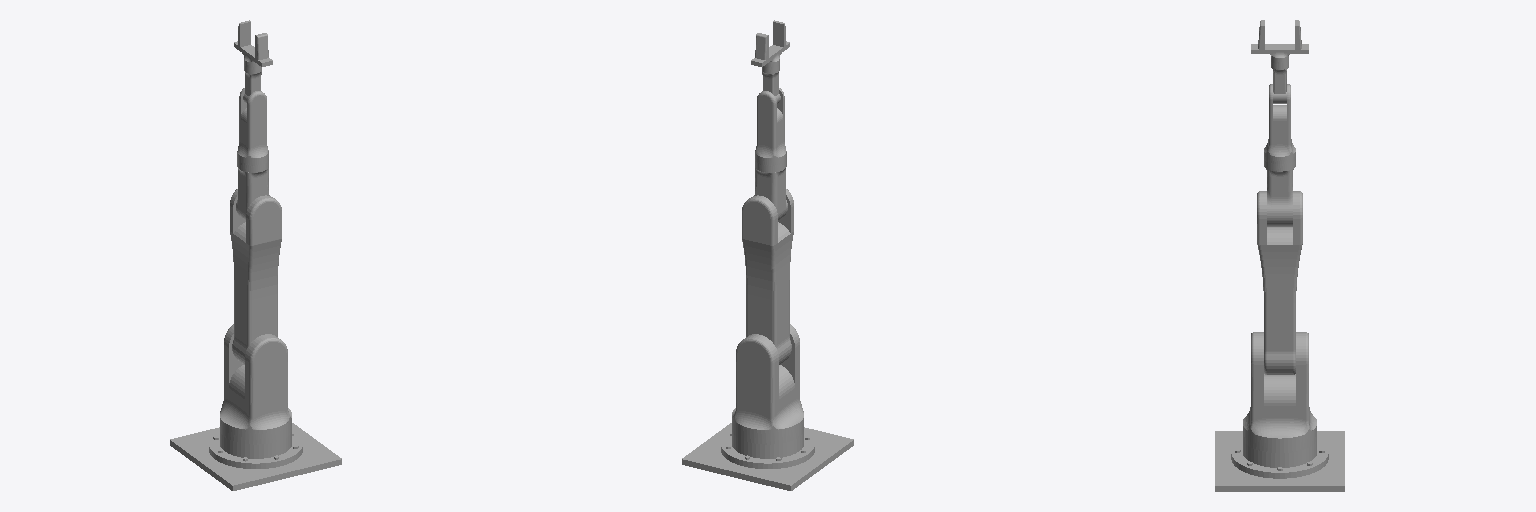
URDF robot description (robot_arm):
<?xml version="1.0" ?>
<robot name="robot_arm">
  <material name="silver">
    <color rgba="0.700 0.700 0.700 1.000"/>
  </material>
  <transmission name="Revolute1_tran">
    <type>transmission_interface/SimpleTransmission</type>
    <joint name="Revolute1">
      <hardwareInterface>hardware_interface/PositionJointInterface</hardwareInterface>
    </joint>
    <actuator name="Revolute1_actr">
      <hardwareInterface>hardware_interface/PositionJointInterface</hardwareInterface>
      <mechanicalReduction>1</mechanicalReduction>
    </actuator>
  </transmission>
  <transmission name="Revolute2_tran">
    <type>transmission_interface/SimpleTransmission</type>
    <joint name="Revolute2">
      <hardwareInterface>hardware_interface/PositionJointInterface</hardwareInterface>
    </joint>
    <actuator name="Revolute2_actr">
      <hardwareInterface>hardware_interface/PositionJointInterface</hardwareInterface>
      <mechanicalReduction>1</mechanicalReduction>
    </actuator>
  </transmission>
  <transmission name="Revolute3_tran">
    <type>transmission_interface/SimpleTransmission</type>
    <joint name="Revolute3">
      <hardwareInterface>hardware_interface/PositionJointInterface</hardwareInterface>
    </joint>
    <actuator name="Revolute3_actr">
      <hardwareInterface>hardware_interface/PositionJointInterface</hardwareInterface>
      <mechanicalReduction>1</mechanicalReduction>
    </actuator>
  </transmission>
  <transmission name="Revolute4_tran">
    <type>transmission_interface/SimpleTransmission</type>
    <joint name="Revolute4">
      <hardwareInterface>hardware_interface/PositionJointInterface</hardwareInterface>
    </joint>
    <actuator name="Revolute4_actr">
      <hardwareInterface>hardware_interface/PositionJointInterface</hardwareInterface>
      <mechanicalReduction>1</mechanicalReduction>
    </actuator>
  </transmission>
  <transmission name="Revolute5_tran">
    <type>transmission_interface/SimpleTransmission</type>
    <joint name="Revolute5">
      <hardwareInterface>hardware_interface/PositionJointInterface</hardwareInterface>
    </joint>
    <actuator name="Revolute5_actr">
      <hardwareInterface>hardware_interface/PositionJointInterface</hardwareInterface>
      <mechanicalReduction>1</mechanicalReduction>
    </actuator>
  </transmission>
  <transmission name="Revolute6_tran">
    <type>transmission_interface/SimpleTransmission</type>
    <joint name="Revolute6">
      <hardwareInterface>hardware_interface/PositionJointInterface</hardwareInterface>
    </joint>
    <actuator name="Revolute6_actr">
      <hardwareInterface>hardware_interface/PositionJointInterface</hardwareInterface>
      <mechanicalReduction>1</mechanicalReduction>
    </actuator>
  </transmission>
  <transmission name="Slider9_tran">
    <type>transmission_interface/SimpleTransmission</type>
    <joint name="Slider9">
      <hardwareInterface>hardware_interface/PositionJointInterface</hardwareInterface>
    </joint>
    <actuator name="Slider9_actr">
      <hardwareInterface>hardware_interface/PositionJointInterface</hardwareInterface>
      <mechanicalReduction>1</mechanicalReduction>
    </actuator>
  </transmission>
  <gazebo>
    <plugin filename="libgazebo_ros_control.so" name="control">
      <robotNamespace>/</robotNamespace>
    </plugin>
  </gazebo>
  <gazebo reference="base_link">
    <material>Gazebo/Grey</material>
    <mu1>0.2</mu1>
    <mu2>0.2</mu2>
    <selfCollide>true</selfCollide>
    <gravity>true</gravity>
  </gazebo>
  <gazebo reference="waist_1">
    <material>Gazebo/Grey</material>
    <mu1>0.2</mu1>
    <mu2>0.2</mu2>
    <selfCollide>true</selfCollide>
  </gazebo>
  <gazebo reference="upperarm_1">
    <material>Gazebo/Grey</material>
    <mu1>0.2</mu1>
    <mu2>0.2</mu2>
    <selfCollide>true</selfCollide>
  </gazebo>
  <gazebo reference="forearm1_1">
    <material>Gazebo/Grey</material>
    <mu1>0.2</mu1>
    <mu2>0.2</mu2>
    <selfCollide>true</selfCollide>
  </gazebo>
  <gazebo reference="forearm2_1">
    <material>Gazebo/Grey</material>
    <mu1>0.2</mu1>
    <mu2>0.2</mu2>
    <selfCollide>true</selfCollide>
  </gazebo>
  <gazebo reference="wrist1_1">
    <material>Gazebo/Grey</material>
    <mu1>0.2</mu1>
    <mu2>0.2</mu2>
    <selfCollide>true</selfCollide>
  </gazebo>
  <gazebo reference="wrist2_1">
    <material>Gazebo/Grey</material>
    <mu1>0.2</mu1>
    <mu2>0.2</mu2>
    <selfCollide>true</selfCollide>
  </gazebo>
  <gazebo reference="grip_pad2_1">
    <material>Gazebo/Grey</material>
    <mu1>0.2</mu1>
    <mu2>0.2</mu2>
    <selfCollide>true</selfCollide>
  </gazebo>
  <gazebo reference="grip_pad1_1">
    <material>Gazebo/Grey</material>
    <mu1>0.2</mu1>
    <mu2>0.2</mu2>
    <selfCollide>true</selfCollide>
  </gazebo>
  <gazebo reference="finger2_1">
    <material>Gazebo/Grey</material>
    <mu1>0.2</mu1>
    <mu2>0.2</mu2>
    <selfCollide>true</selfCollide>
  </gazebo>
  <gazebo reference="finger1_1">
    <material>Gazebo/Grey</material>
    <mu1>0.2</mu1>
    <mu2>0.2</mu2>
    <selfCollide>true</selfCollide>
  </gazebo>
  <link name="world"/>
  <joint name="base_joint" type="fixed">
    <parent link="world"/>
    <child link="base_link"/>
    <origin rpy="0 0 0" xyz="0.0 0.0 0.0"/>
  </joint>
  <link name="base_link"/>
  <joint name="base_joint2" type="fixed">
    <parent link="base_link"/>
    <child link="base"/>
    <origin rpy="0 0 0" xyz="0.0 0.0 0.01"/>
  </joint>
  <link name="base">
    <inertial>
      <origin rpy="0 0 0" xyz="0.0 -4.3415807077914064e-17 0.03132405886399544"/>
      <mass value="18.09947747652384"/>
      <inertia ixx="0.167384" ixy="0.0" ixz="0.0" iyy="0.167384" iyz="0.0" izz="0.310998"/>
    </inertial>
    <visual>
      <origin rpy="0 0 0" xyz="0 0 0"/>
      <geometry>
        <mesh filename="package://robot_arm_description/meshes/base_link.stl" scale="0.001 0.001 0.001"/>
      </geometry>
      <material name="silver"/>
    </visual>
    <collision>
      <origin rpy="0 0 0" xyz="0 0 0"/>
      <geometry>
        <mesh filename="package://robot_arm_description/meshes/base_link.stl" scale="0.001 0.001 0.001"/>
      </geometry>
    </collision>
  </link>
  <link name="waist_1">
    <inertial>
      <origin rpy="0 0 0" xyz="-2.3750403473000028e-07 -8.066667906738984e-07 0.12364058852377574"/>
      <mass value="20.183529231928016"/>
      <inertia ixx="0.235705" ixy="-0.0" ixz="-0.0" iyy="0.209956" iyz="-1e-06" izz="0.110543"/>
    </inertial>
    <visual>
      <origin rpy="0 0 0" xyz="-0.0 -0.0 -0.09"/>
      <geometry>
        <mesh filename="package://robot_arm_description/meshes/waist_1.stl" scale="0.001 0.001 0.001"/>
      </geometry>
      <material name="silver"/>
    </visual>
    <collision>
      <origin rpy="0 0 0" xyz="-0.0 -0.0 -0.09"/>
      <geometry>
        <mesh filename="package://robot_arm_description/meshes/waist_1.stl" scale="0.001 0.001 0.001"/>
      </geometry>
    </collision>
  </link>
  <link name="upperarm_1">
    <inertial>
      <origin rpy="0 0 0" xyz="2.3659047487929498e-11 -0.04999996703866122 0.2327718880777211"/>
      <mass value="17.58857290587048"/>
      <inertia ixx="0.489324" ixy="-0.0" ixz="-0.0" iyy="0.485246" iyz="-0.0" izz="0.040061"/>
    </inertial>
    <visual>
      <origin rpy="0 0 0" xyz="-0.0 -0.05 -0.37"/>
      <geometry>
        <mesh filename="package://robot_arm_description/meshes/upperarm_1.stl" scale="0.001 0.001 0.001"/>
      </geometry>
      <material name="silver"/>
    </visual>
    <collision>
      <origin rpy="0 0 0" xyz="-0.0 -0.05 -0.37"/>
      <geometry>
        <mesh filename="package://robot_arm_description/meshes/upperarm_1.stl" scale="0.001 0.001 0.001"/>
      </geometry>
    </collision>
  </link>
  <link name="forearm1_1">
    <inertial>
      <origin rpy="0 0 0" xyz="-0.006296683962501097 0.04000001957050841 0.06477978077948165"/>
      <mass value="4.070671407078093"/>
      <inertia ixx="0.019208" ixy="0.0" ixz="0.001037" iyy="0.019543" iyz="-0.0" izz="0.004706"/>
    </inertial>
    <visual>
      <origin rpy="0 0 0" xyz="-0.0 0.04 -0.86"/>
      <geometry>
        <mesh filename="package://robot_arm_description/meshes/forearm1_1.stl" scale="0.001 0.001 0.001"/>
      </geometry>
      <material name="silver"/>
    </visual>
    <collision>
      <origin rpy="0 0 0" xyz="-0.0 0.04 -0.86"/>
      <geometry>
        <mesh filename="package://robot_arm_description/meshes/forearm1_1.stl" scale="0.001 0.001 0.001"/>
      </geometry>
    </collision>
  </link>
  <link name="forearm2_1">
    <inertial>
      <origin rpy="0 0 0" xyz="-2.7829952249300294e-07 1.033368932702031e-06 0.09268439753937763"/>
      <mass value="2.849952140554099"/>
      <inertia ixx="0.013062" ixy="0.0" ixz="-0.0" iyy="0.012885" iyz="0.0" izz="0.002689"/>
    </inertial>
    <visual>
      <origin rpy="0 0 0" xyz="0.01 -0.0 -1.035"/>
      <geometry>
        <mesh filename="package://robot_arm_description/meshes/forearm2_1.stl" scale="0.001 0.001 0.001"/>
      </geometry>
      <material name="silver"/>
    </visual>
    <collision>
      <origin rpy="0 0 0" xyz="0.01 -0.0 -1.035"/>
      <geometry>
        <mesh filename="package://robot_arm_description/meshes/forearm2_1.stl" scale="0.001 0.001 0.001"/>
      </geometry>
    </collision>
  </link>
  <link name="wrist1_1">
    <inertial>
      <origin rpy="0 0 0" xyz="2.0227437942908766e-06 0.020000329180512106 0.05299335806886707"/>
      <mass value="0.6993742533213136"/>
      <inertia ixx="0.001407" ixy="0.0" ixz="-0.0" iyy="0.001413" iyz="-0.0" izz="0.000215"/>
    </inertial>
    <visual>
      <origin rpy="0 0 0" xyz="0.01 0.02 -1.245"/>
      <geometry>
        <mesh filename="package://robot_arm_description/meshes/wrist1_1.stl" scale="0.001 0.001 0.001"/>
      </geometry>
      <material name="silver"/>
    </visual>
    <collision>
      <origin rpy="0 0 0" xyz="0.01 0.02 -1.245"/>
      <geometry>
        <mesh filename="package://robot_arm_description/meshes/wrist1_1.stl" scale="0.001 0.001 0.001"/>
      </geometry>
    </collision>
  </link>
  <link name="wrist2_1">
    <inertial>
      <origin rpy="0 0 0" xyz="1.1275702593849246e-16 3.657115606811286e-17 0.0281686051105714"/>
      <mass value="0.5036009164326142"/>
      <inertia ixx="0.000922" ixy="0.0" ixz="0.0" iyy="0.000161" iyz="-0.0" izz="0.000918"/>
    </inertial>
    <visual>
      <origin rpy="0 0 0" xyz="0.01 -0.0 -1.365"/>
      <geometry>
        <mesh filename="package://robot_arm_description/meshes/wrist2_1.stl" scale="0.001 0.001 0.001"/>
      </geometry>
      <material name="silver"/>
    </visual>
    <collision>
      <origin rpy="0 0 0" xyz="0.01 -0.0 -1.365"/>
      <geometry>
        <mesh filename="package://robot_arm_description/meshes/wrist2_1.stl" scale="0.001 0.001 0.001"/>
      </geometry>
    </collision>
  </link>
  <link name="grip_pad2_1">
    <inertial>
      <origin rpy="0 0 0" xyz="-6.938893903907228e-18 -0.0025000724777404274 0.0"/>
      <mass value="0.014880000388026237"/>
      <inertia ixx="8e-06" ixy="-0.0" ixz="-0.0" iyy="1e-05" iyz="-0.0" izz="2e-06"/>
    </inertial>
    <visual>
      <origin rpy="0 0 0" xyz="0.01 -0.005203 -1.45"/>
      <geometry>
        <mesh filename="package://robot_arm_description/meshes/grip_pad2_1.stl" scale="0.001 0.001 0.001"/>
      </geometry>
      <material name="silver"/>
    </visual>
    <collision>
      <origin rpy="0 0 0" xyz="0.01 -0.005203 -1.45"/>
      <geometry>
        <mesh filename="package://robot_arm_description/meshes/grip_pad2_1.stl" scale="0.001 0.001 0.001"/>
      </geometry>
    </collision>
  </link>
  <link name="grip_pad1_1">
    <inertial>
      <origin rpy="0 0 0" xyz="-1.0408340855860843e-17 0.0025000724777404274 0.0"/>
      <mass value="0.014880000388026237"/>
      <inertia ixx="8e-06" ixy="0.0" ixz="0.0" iyy="1e-05" iyz="0.0" izz="2e-06"/>
    </inertial>
    <visual>
      <origin rpy="0 0 0" xyz="0.01 0.005203 -1.45"/>
      <geometry>
        <mesh filename="package://robot_arm_description/meshes/grip_pad1_1.stl" scale="0.001 0.001 0.001"/>
      </geometry>
      <material name="silver"/>
    </visual>
    <collision>
      <origin rpy="0 0 0" xyz="0.01 0.005203 -1.45"/>
      <geometry>
        <mesh filename="package://robot_arm_description/meshes/grip_pad1_1.stl" scale="0.001 0.001 0.001"/>
      </geometry>
    </collision>
  </link>
  <link name="finger2_1">
    <inertial>
      <origin rpy="0 0 0" xyz="2.235174077075408e-10 0.011581779808013701 0.036854048228467606"/>
      <mass value="0.1078090820987537"/>
      <inertia ixx="5.8e-05" ixy="-0.0" ixz="0.0" iyy="7e-05" iyz="2e-06" izz="1.5e-05"/>
    </inertial>
    <visual>
      <origin rpy="0 0 0" xyz="0.01 -0.0 -1.41"/>
      <geometry>
        <mesh filename="package://robot_arm_description/meshes/finger2_1.stl" scale="0.001 0.001 0.001"/>
      </geometry>
      <material name="silver"/>
    </visual>
    <collision>
      <origin rpy="0 0 0" xyz="0.01 -0.0 -1.41"/>
      <geometry>
        <mesh filename="package://robot_arm_description/meshes/finger2_1.stl" scale="0.001 0.001 0.001"/>
      </geometry>
    </collision>
  </link>
  <link name="finger1_1">
    <inertial>
      <origin rpy="0 0 0" xyz="-5.582143254578842e-11 -0.011581779827821896 0.0368540482724069"/>
      <mass value="0.1078090836045169"/>
      <inertia ixx="5.8e-05" ixy="-0.0" ixz="0.0" iyy="7e-05" iyz="-2e-06" izz="1.5e-05"/>
    </inertial>
    <visual>
      <origin rpy="0 0 0" xyz="0.01 -0.0 -1.41"/>
      <geometry>
        <mesh filename="package://robot_arm_description/meshes/finger1_1.stl" scale="0.001 0.001 0.001"/>
      </geometry>
      <material name="silver"/>
    </visual>
    <collision>
      <origin rpy="0 0 0" xyz="0.01 -0.0 -1.41"/>
      <geometry>
        <mesh filename="package://robot_arm_description/meshes/finger1_1.stl" scale="0.001 0.001 0.001"/>
      </geometry>
    </collision>
  </link>
  <joint name="Revolute1" type="revolute">
    <origin rpy="0 0 0" xyz="0.0 0.0 0.09"/>
    <parent link="base"/>
    <child link="waist_1"/>
    <axis xyz="0.0 0.0 1.0"/>
    <limit effort="100" lower="0.0" upper="6.283185" velocity="100"/>
  </joint>
  <joint name="Revolute2" type="revolute">
    <origin rpy="0 0 0" xyz="0.0 0.05 0.28"/>
    <parent link="waist_1"/>
    <child link="upperarm_1"/>
    <axis xyz="0.0 -1.0 0.0"/>
    <limit effort="100" lower="-1.919862" upper="1.919862" velocity="100"/>
  </joint>
  <joint name="Revolute3" type="revolute">
    <origin rpy="0 0 0" xyz="0.0 -0.09 0.49"/>
    <parent link="upperarm_1"/>
    <child link="forearm1_1"/>
    <axis xyz="-0.0 1.0 0.0"/>
    <limit effort="100" lower="-0.349066" upper="2.094395" velocity="100"/>
  </joint>
  <joint name="Revolute4" type="revolute">
    <origin rpy="0 0 0" xyz="-0.01 0.04 0.175"/>
    <parent link="forearm1_1"/>
    <child link="forearm2_1"/>
    <axis xyz="0.0 0.0 1.0"/>
    <limit effort="100" lower="0.0" upper="6.283185" velocity="100"/>
  </joint>
  <joint name="Revolute5" type="revolute">
    <origin rpy="0 0 0" xyz="0.0 -0.02 0.21"/>
    <parent link="forearm2_1"/>
    <child link="wrist1_1"/>
    <axis xyz="0.0 1.0 0.0"/>
    <limit effort="100" lower="-0.785398" upper="2.181662" velocity="100"/>
  </joint>
  <joint name="Revolute6" type="revolute">
    <origin rpy="0 0 0" xyz="0.0 0.02 0.12"/>
    <parent link="wrist1_1"/>
    <child link="wrist2_1"/>
    <axis xyz="0.0 0.0 1.0"/>
    <limit effort="100" lower="0.0" upper="6.283185" velocity="100"/>
  </joint>
  <joint name="Rigid7" type="fixed">
    <origin rpy="0 0 0" xyz="0.0 0.005203 0.04"/>
    <parent link="finger2_1"/>
    <child link="grip_pad2_1"/>
  </joint>
  <joint name="Rigid8" type="fixed">
    <origin rpy="0 0 0" xyz="0.0 -0.005203 0.04"/>
    <parent link="finger1_1"/>
    <child link="grip_pad1_1"/>
  </joint>
  <joint name="Slider9" type="prismatic">
    <origin rpy="0 0 0" xyz="0.0 0.0 0.045"/>
    <parent link="wrist2_1"/>
    <child link="finger2_1"/>
    <axis xyz="0.0 1.0 0.0"/>
    <limit effort="100" lower="0.013" upper="0.08" velocity="100"/>
  </joint>
  <joint name="Slider10" type="prismatic">
    <origin rpy="0 0 0" xyz="0.0 0.0 0.045"/>
    <parent link="wrist2_1"/>
    <child link="finger1_1"/>
    <axis xyz="0.0 1.0 0.0"/>
    <limit effort="100" lower="-0.08" upper="-0.013" velocity="100"/>
    <mimic joint="Slider9" multiplier="-1" offset="0"/>
  </joint>
</robot>

--- Facts derived from the render (not from the file) ---
3 views of the same robot in one strip: view 1: azimuth 30°, elevation 25°; view 2: azimuth 150°, elevation 25°; view 3: azimuth 270°, elevation 25° (orthographic).
Robot: robot_arm — 13 links, 12 joints (6 revolute, 2 prismatic, 4 fixed); root link world; default pose: joints at zero except 2 at the middle of their limits (Slider9 = 0.0465, Slider10 = -0.0465).
Visible links, largest first — view 1: upperarm_1, waist_1, base, forearm2_1, forearm1_1; view 2: upperarm_1, waist_1, base, forearm2_1, forearm1_1; view 3: base, waist_1, upperarm_1, forearm1_1, forearm2_1, wrist2_1, wrist1_1.
Boxes of the visible links, left/top/right/bottom form: upperarm_1: left=230, top=189, right=281, bottom=364; waist_1: left=220, top=324, right=291, bottom=444; base: left=170, top=423, right=341, bottom=490; forearm2_1: left=237, top=88, right=268, bottom=165; forearm1_1: left=236, top=159, right=269, bottom=219; upperarm_1: left=742, top=189, right=793, bottom=364; waist_1: left=732, top=324, right=803, bottom=444; base: left=682, top=423, right=853, bottom=490; forearm2_1: left=755, top=88, right=786, bottom=165; forearm1_1: left=754, top=159, right=787, bottom=219; base: left=1215, top=431, right=1344, bottom=491; waist_1: left=1243, top=332, right=1316, bottom=452; upperarm_1: left=1257, top=191, right=1302, bottom=374; forearm1_1: left=1264, top=159, right=1295, bottom=226; forearm2_1: left=1264, top=84, right=1295, bottom=163; wrist2_1: left=1251, top=44, right=1308, bottom=63; wrist1_1: left=1271, top=62, right=1288, bottom=103.
Bounding box of the posed robot: 0.4 × 0.4 × 1.49 m (x, y, z).
11 mesh visuals loaded from 11 distinct referenced files (11 binary STL).